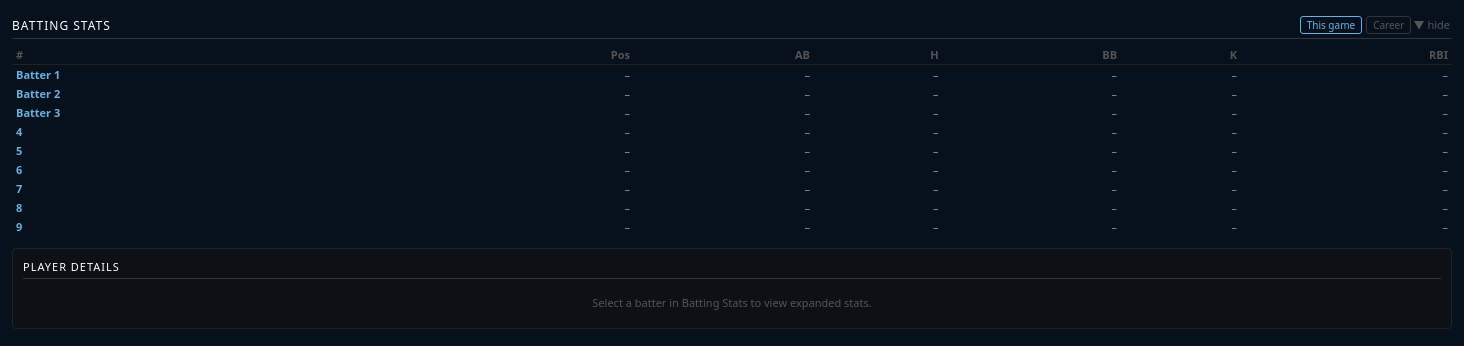
Test: PlayerStatsPanel — career RBI regression › career RBIs from prior games show immediately without needing a current-game event
Switch to career mode
Click the button "Career" at (1389, 25), box [1366, 16, 1411, 34]
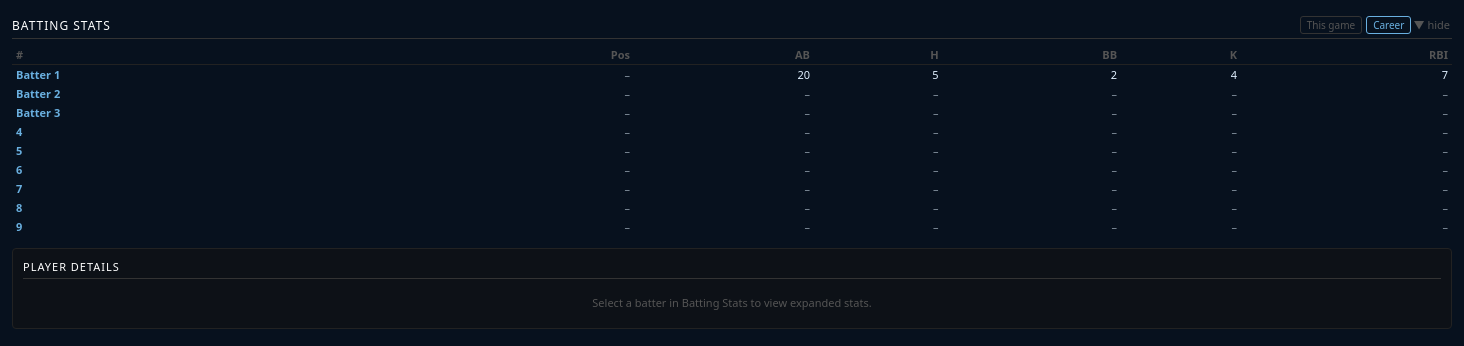
Now the cell "7" in the row of "Batter 1" is shown, box [1442, 67, 1448, 82]
